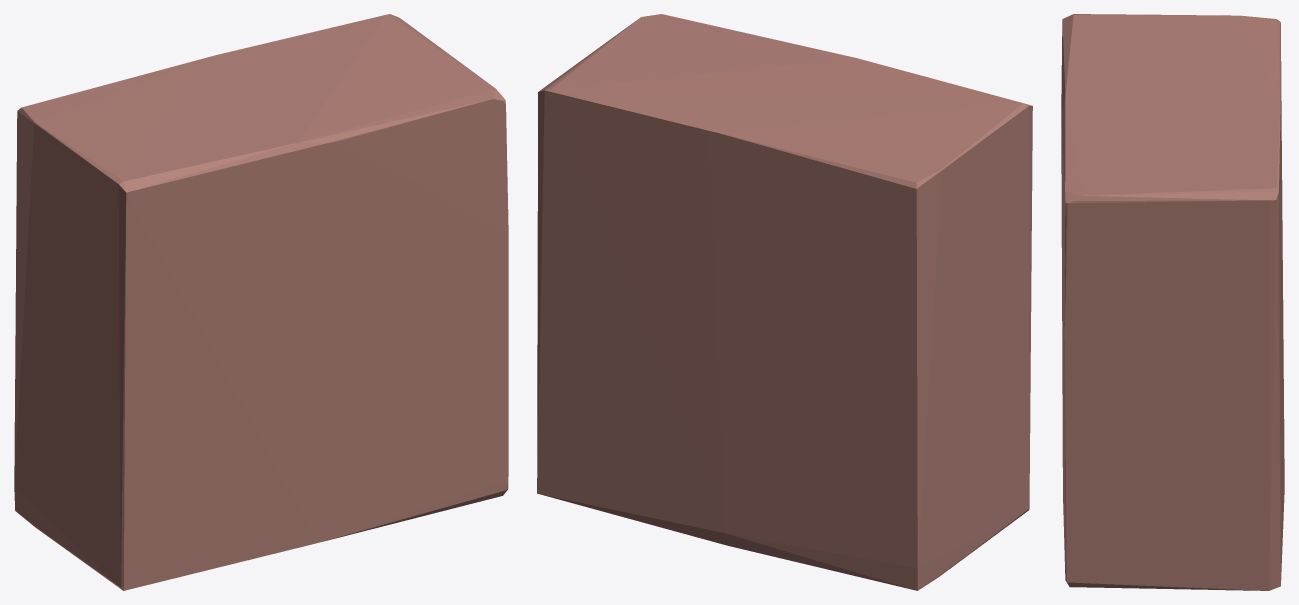
File: box_flat_brown_b09.glb
3 renders of one model, left to right at view 1: azimuth 30°, elevation 25°; view 2: azimuth 150°, elevation 25°; view 3: azimuth 270°, elevation 25°, orthographic. The views are drawn at different scales.
Parts seen in each view (by area): view 1: geometry_0; view 2: geometry_0; view 3: geometry_0.
Part boxes in pixels (x1,y1,x2,y2): geometry_0: [14, 14, 508, 590]; geometry_0: [537, 14, 1032, 590]; geometry_0: [1061, 14, 1284, 590].
Bounding box in the file's own units: 0.4732 × 0.48 × 0.2441.
